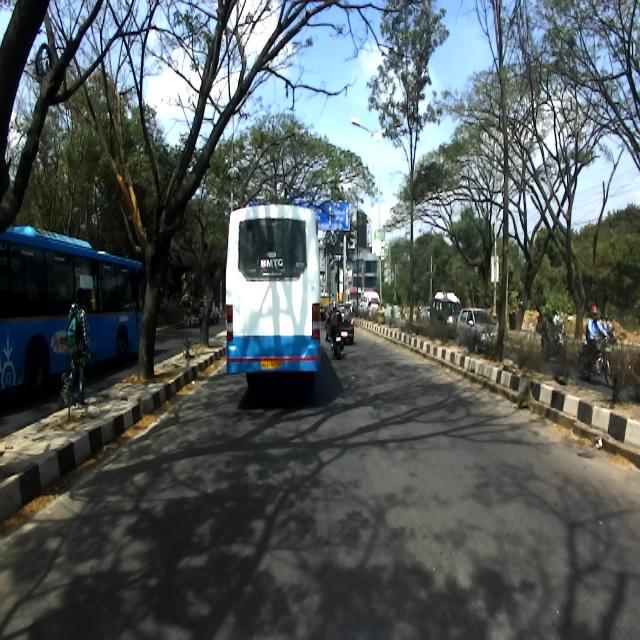bus ahead at: (224, 194, 326, 386)
